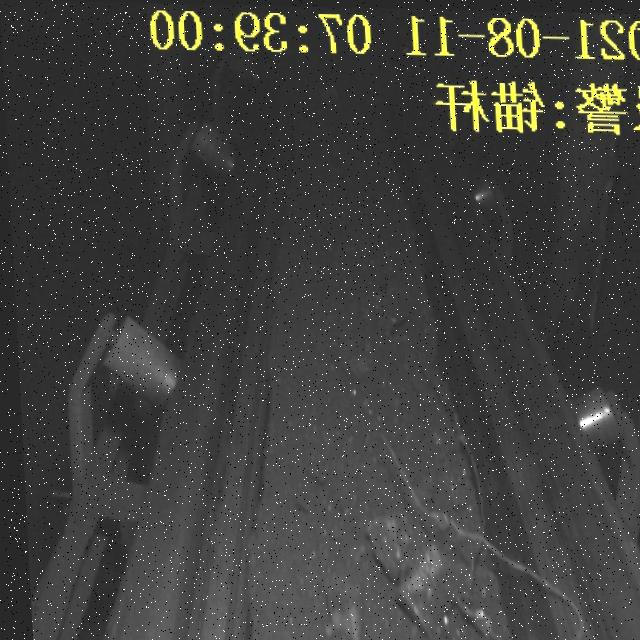bolt: (452, 526, 587, 640), (374, 433, 432, 515)
large_sized_coal: (362, 517, 447, 628), (317, 576, 361, 639), (386, 626, 426, 640)
